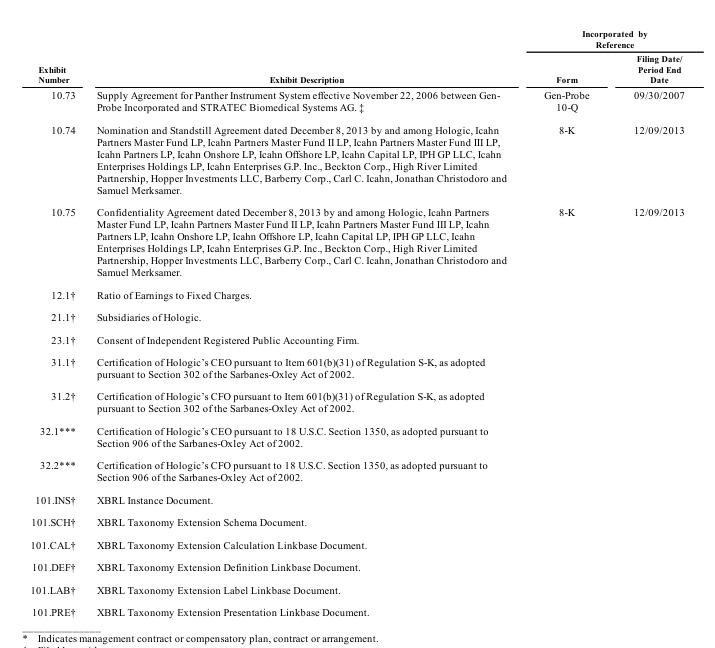table: (29, 28, 683, 617)
table column: (85, 28, 524, 617), (524, 28, 610, 617), (610, 28, 683, 617), (29, 28, 85, 617)
table column header: (29, 28, 683, 86)
table row: (29, 117, 683, 200), (29, 200, 683, 282), (29, 51, 683, 86), (29, 384, 683, 419), (29, 453, 683, 488), (29, 350, 683, 384), (29, 419, 683, 453), (29, 86, 683, 117), (29, 28, 683, 51), (29, 282, 683, 305), (29, 327, 683, 350), (29, 532, 683, 555), (29, 577, 683, 600), (29, 305, 683, 327), (29, 488, 683, 510), (29, 510, 683, 532), (29, 555, 683, 577), (29, 600, 683, 617)
table spanning cell: (85, 28, 524, 86), (524, 28, 683, 51), (29, 28, 85, 86)
